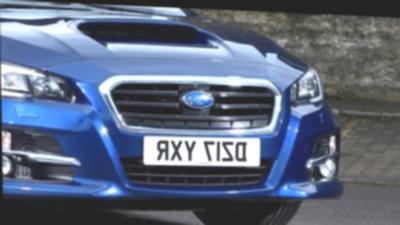License_Plate: (158, 133, 255, 169)
